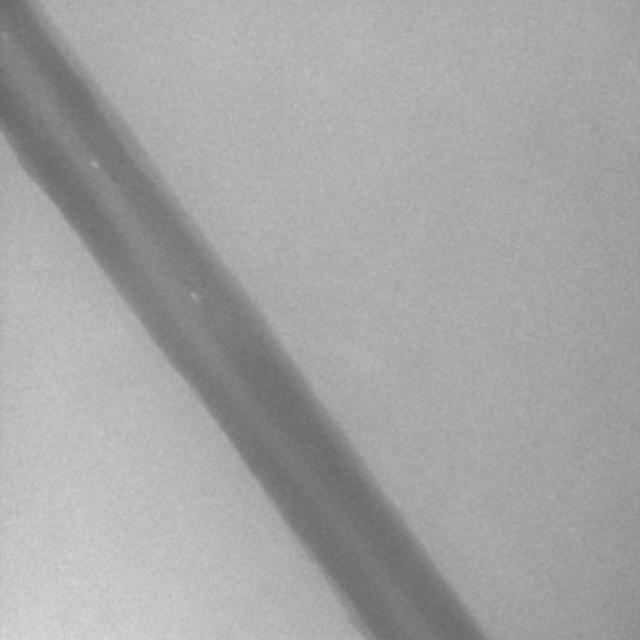air hole: (187, 287, 199, 302), (89, 159, 100, 171)
